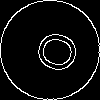O: (25, 25, 81, 76)
